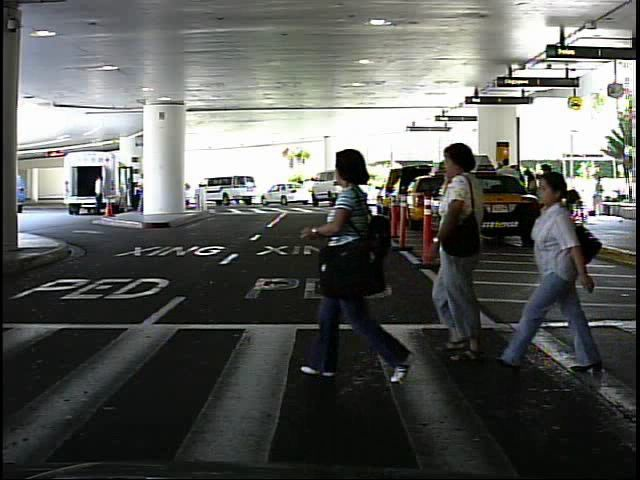person: (316, 136, 413, 387), (413, 139, 514, 366), (496, 172, 602, 379), (91, 170, 109, 220), (590, 172, 608, 217)
